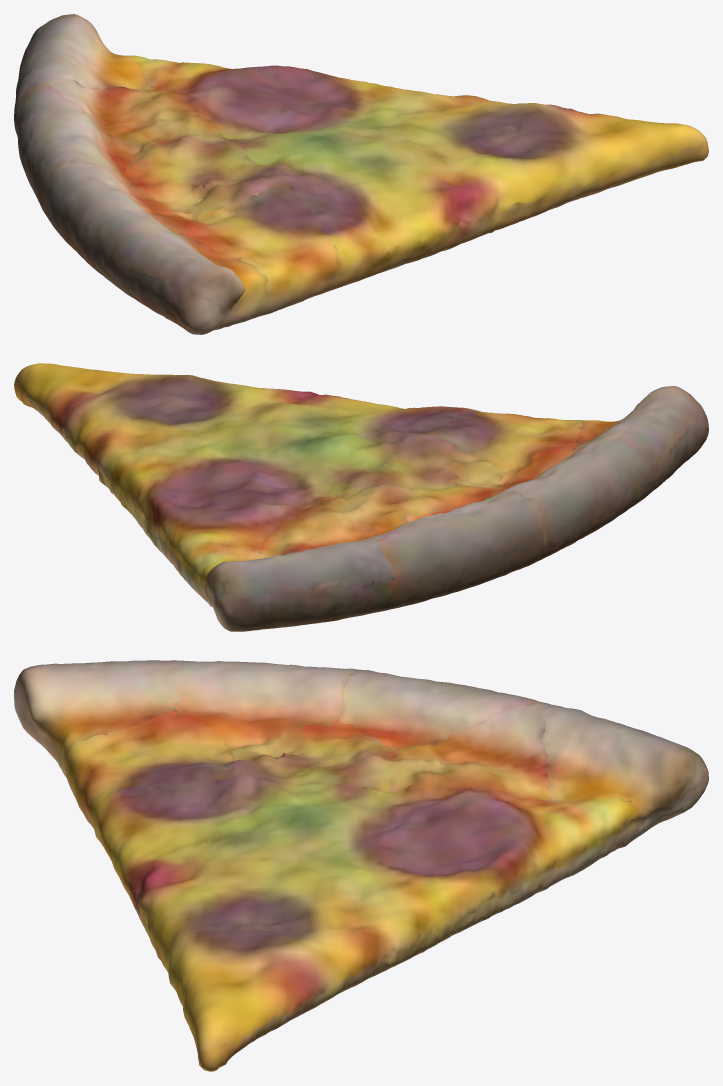
The model's file is pizza.glb.
3 renders of one model, top to bottom at view 1: azimuth 30°, elevation 25°; view 2: azimuth 150°, elevation 25°; view 3: azimuth 270°, elevation 25°, orthographic. The views are drawn at different scales.
Parts seen in each view (by area): view 1: Mesh1; view 2: Mesh1; view 3: Mesh1.
Boxes of the visible parts, <box> form: Mesh1: <box>14,14,708,334</box>; Mesh1: <box>14,363,708,631</box>; Mesh1: <box>14,660,708,1071</box>.
Bounding box in the file's own units: 1.2 × 0.1822 × 1.07.
Materials: 1 (1 with a texture image).
